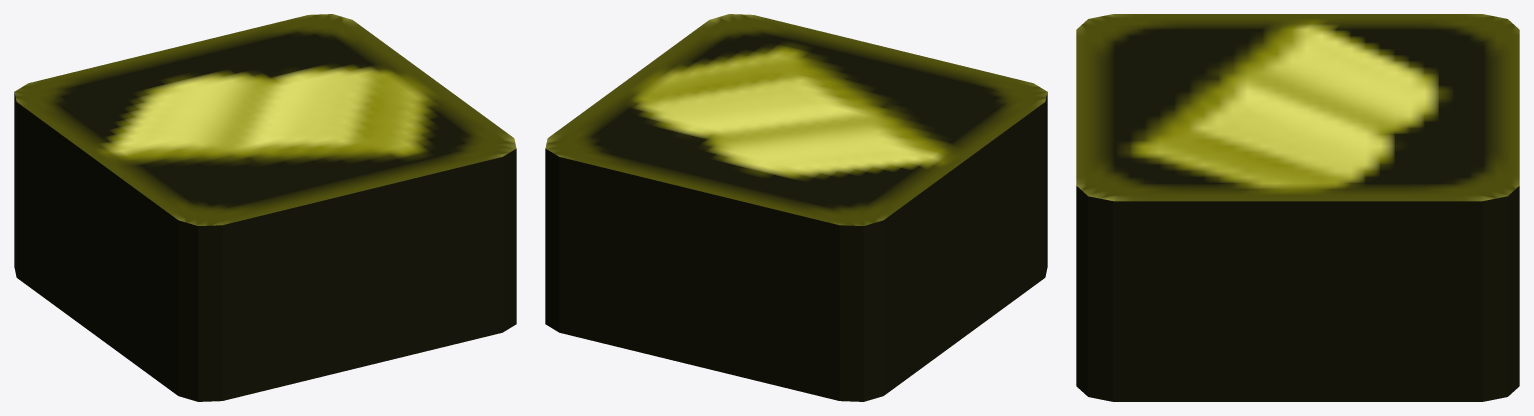
File: icon_story.obj
3 renders of one model, left to right at view 1: azimuth 30°, elevation 25°; view 2: azimuth 150°, elevation 25°; view 3: azimuth 270°, elevation 25°, orthographic. The views are drawn at different scales.
Parts seen in each view (by area): view 1: Icon-Story.001_Plane.024; view 2: Icon-Story.001_Plane.024; view 3: Icon-Story.001_Plane.024.
Part boxes in pixels (box(x1,y1,x2,y2)): Icon-Story.001_Plane.024: box(14, 14, 516, 401); Icon-Story.001_Plane.024: box(545, 14, 1047, 401); Icon-Story.001_Plane.024: box(1076, 14, 1519, 401).
Size of the model in its own units: 2 by 1 by 2.
Materials: 2 (2 with a texture image).
